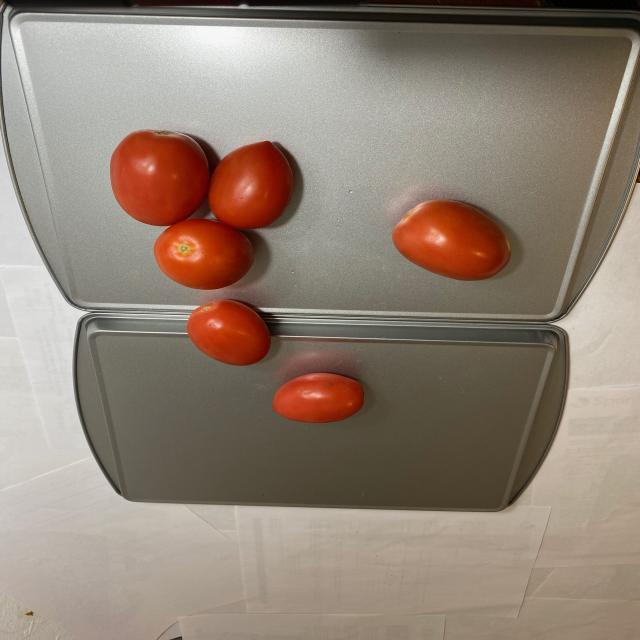tomato: (112, 124, 299, 292), (185, 296, 369, 425), (392, 197, 520, 284)
